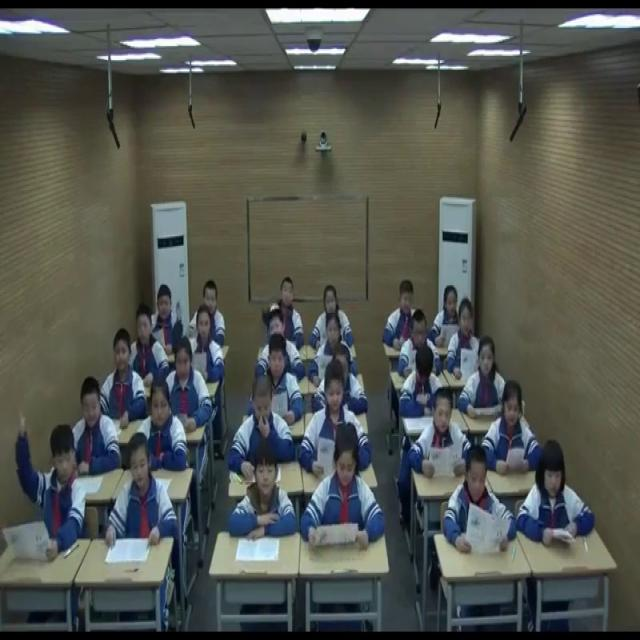focused: (301, 427, 384, 552), (510, 442, 595, 554), (301, 362, 374, 486), (445, 442, 517, 564), (108, 429, 177, 547), (409, 389, 479, 481), (232, 451, 298, 543), (234, 380, 297, 468), (484, 382, 546, 469), (98, 326, 148, 424), (70, 384, 121, 479), (168, 337, 216, 435), (141, 379, 188, 473), (260, 334, 306, 426), (462, 336, 513, 418), (398, 343, 452, 417), (447, 297, 492, 378), (130, 304, 171, 386), (258, 306, 304, 374), (384, 278, 426, 344), (263, 276, 306, 340), (310, 286, 353, 350), (313, 315, 356, 377), (189, 282, 229, 348), (398, 308, 438, 372), (433, 284, 466, 344), (150, 289, 180, 348)
raising_hand: (14, 408, 86, 555), (172, 300, 227, 392)
